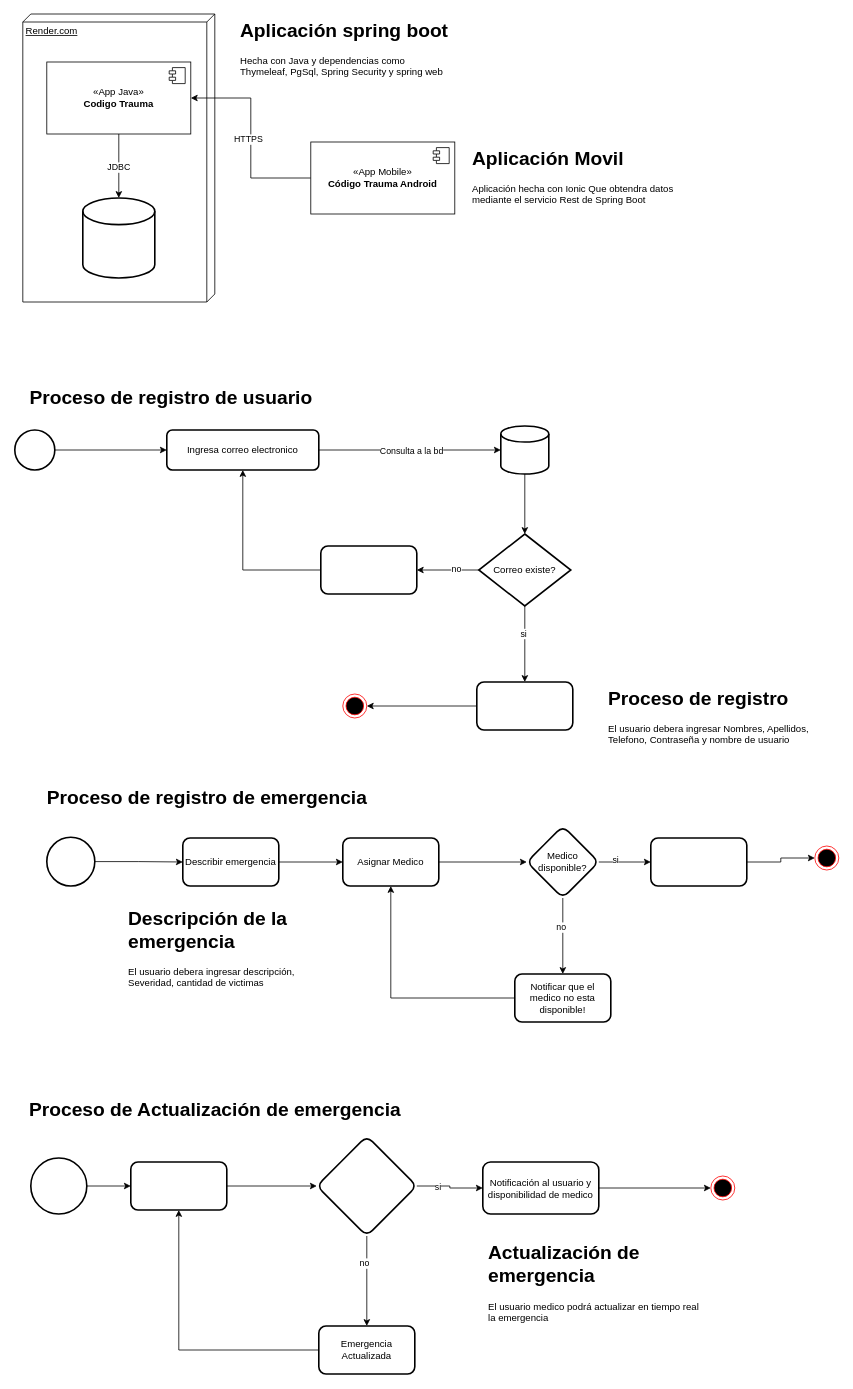
The diagram is 853 pixels wide and 1389 high, and some of its shapes have lost their labels. Here are the shapes that lost their labels. From the top down, the box of each, then its label:
(82, 197, 155, 278): PostgreSQL
(320, 545, 417, 594): Registro invalido y notifica al usuario
(476, 681, 573, 730): Proceso de registro
(650, 837, 747, 886): Registro de emergencia !
(130, 1161, 227, 1210): Actualizar emergencia
(316, 1135, 417, 1236): Emergencia completada o Cancelada?
